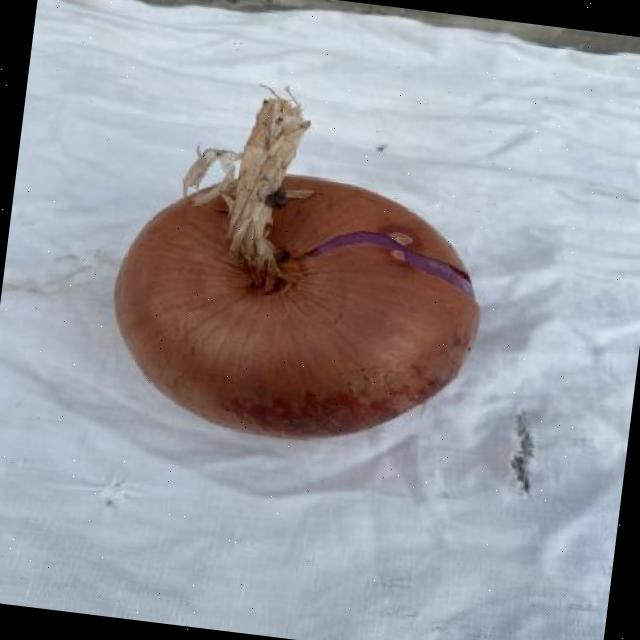Onion: (114, 93, 480, 437)
